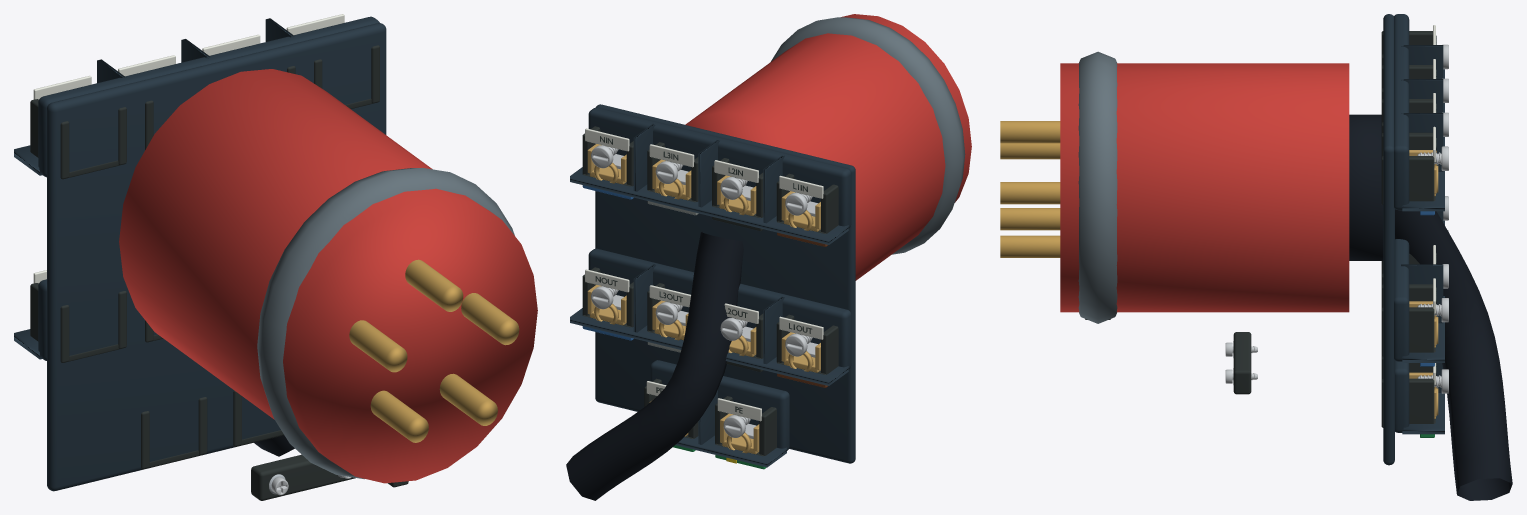
File: plug3_default.glb
The picture shows the model from 3 angles, left to right: view 1: azimuth 30°, elevation 25°; view 2: azimuth 150°, elevation 25°; view 3: azimuth 270°, elevation 25°; orthographic projection. The views are drawn at different scales.
Parts seen in each view (by area): view 1: part:body, part:terminals · Original a463fd81, part:body.001 · Original df732090, Cord grip bridge, detail:terminal-clamp:L1IN · Detail moulded engineering poly, detail:terminal-clamp:L1OUT · Detail moulded engineering pol, detail:terminal-clamp:PE · Detail moulded engineering polyme, detail:terminal-clamp:NIN · Detail moulded engineering polym, detail:terminal-clamp:PEOUT · Detail moulded engineering pol, Moulded terminal legend pad; view 2: part:terminals · Original a463fd81, part:body, part:sheath, detail:terminal-clamp:L1IN · Detail moulded engineering poly, detail:terminal-clamp:L1OUT · Detail moulded engineering pol, detail:terminal-clamp:PE · Detail moulded engineering polyme, detail:terminal-clamp:L2IN · Detail moulded engineering poly, detail:terminal-clamp:L2IN · Detail machined brass, detail:terminal-clamp:L3IN · Detail machined brass, detail:terminal-clamp:PE · Detail machined brass, detail:terminal-clamp:L1OUT · Detail machined brass, detail:terminal-clamp:L1IN · Detail machined brass (+25 smaller); view 3: part:body, part:terminals · Original a463fd81, part:sheath, part:body.001 · Original df732090, detail:terminal-clamp:NOUT · Detail moulded engineering poly, detail:terminal-clamp:NIN · Detail moulded engineering polym, detail:terminal-clamp:PEOUT · Detail moulded engineering pol, Cord grip bridge.
Boxes of the visible parts, x1,y1,x2,y2 form: part:body: (119, 69, 537, 483); part:terminals · Original a463fd81: (14, 16, 386, 491); part:body.001 · Original df732090: (349, 259, 519, 442); Cord grip bridge: (251, 454, 355, 500); detail:terminal-clamp:L1IN · Detail moulded engineering poly: (30, 99, 126, 179); detail:terminal-clamp:L1OUT · Detail moulded engineering pol: (30, 283, 126, 362); detail:terminal-clamp:PE · Detail moulded engineering polyme: (141, 397, 207, 469); detail:terminal-clamp:NIN · Detail moulded engineering polym: (314, 45, 379, 108); detail:terminal-clamp:PEOUT · Detail moulded engineering pol: (233, 390, 283, 446); Moulded terminal legend pad: (33, 75, 91, 99); part:terminals · Original a463fd81: (570, 104, 855, 467); part:body: (685, 14, 971, 280); part:sheath: (566, 231, 743, 500); detail:terminal-clamp:L1IN · Detail moulded engineering poly: (776, 173, 838, 233); detail:terminal-clamp:L1OUT · Detail moulded engineering pol: (776, 314, 838, 374); detail:terminal-clamp:PE · Detail moulded engineering polyme: (715, 396, 776, 456); detail:terminal-clamp:L2IN · Detail moulded engineering poly: (712, 158, 763, 231); detail:terminal-clamp:L2IN · Detail machined brass: (717, 175, 756, 215); detail:terminal-clamp:L3IN · Detail machined brass: (652, 159, 691, 200); detail:terminal-clamp:PE · Detail machined brass: (720, 413, 759, 454); detail:terminal-clamp:L1OUT · Detail machined brass: (781, 332, 820, 372); detail:terminal-clamp:L1IN · Detail machined brass: (781, 191, 820, 231); part:body: (1060, 51, 1383, 323); part:terminals · Original a463fd81: (1383, 14, 1444, 465); part:sheath: (1395, 209, 1512, 500); part:body.001 · Original df732090: (1000, 121, 1060, 257); detail:terminal-clamp:NOUT · Detail moulded engineering poly: (1381, 284, 1435, 356); detail:terminal-clamp:NIN · Detail moulded engineering polym: (1381, 132, 1435, 204); detail:terminal-clamp:PEOUT · Detail moulded engineering pol: (1381, 356, 1435, 427); Cord grip bridge: (1233, 332, 1251, 394).
Bounding box in the file's own units: 0.68 × 0.9217 × 1.08.
